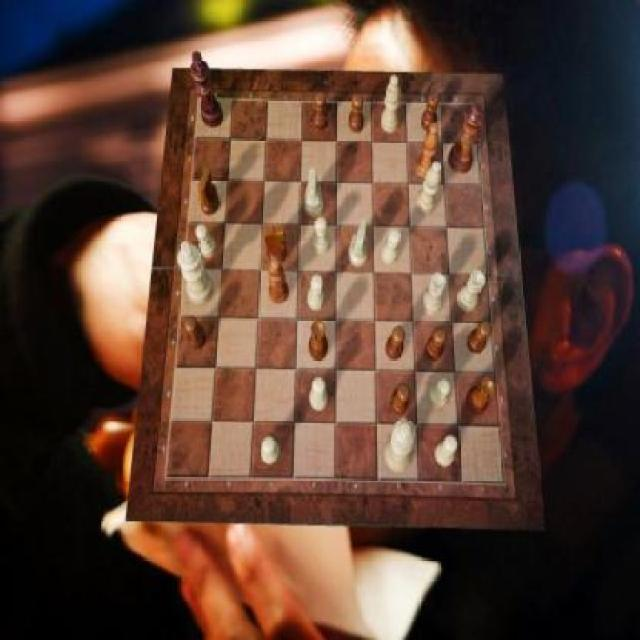bishop: (417, 121, 440, 178), (269, 257, 290, 303)
black-bishop: (190, 53, 222, 128)
black-king: (198, 169, 220, 217), (263, 226, 287, 265)
black-knight: (468, 320, 492, 354), (184, 315, 206, 350), (424, 328, 446, 362), (422, 94, 441, 132), (386, 326, 406, 361), (391, 385, 411, 417), (348, 94, 364, 134), (312, 92, 328, 131)
black-pawn: (448, 101, 484, 176)
black-queen: (466, 377, 496, 415), (309, 320, 329, 362)
black-rook: (417, 162, 441, 216), (382, 75, 401, 134)
white-bishop: (178, 240, 214, 305)
white-king: (348, 220, 368, 268), (304, 169, 324, 217)
white-knight: (436, 435, 458, 468), (382, 230, 402, 266), (196, 225, 217, 259), (429, 378, 452, 408), (314, 217, 331, 255), (310, 377, 328, 411), (308, 276, 324, 312), (262, 437, 280, 465)
white-pawn: (386, 419, 417, 473)
white-queen: (457, 269, 485, 312), (422, 274, 446, 316)
